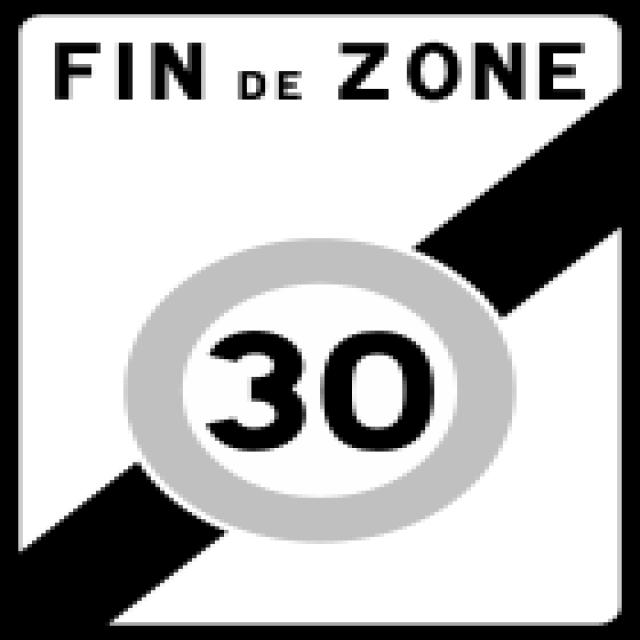end_speed: (0, 3, 640, 640)
